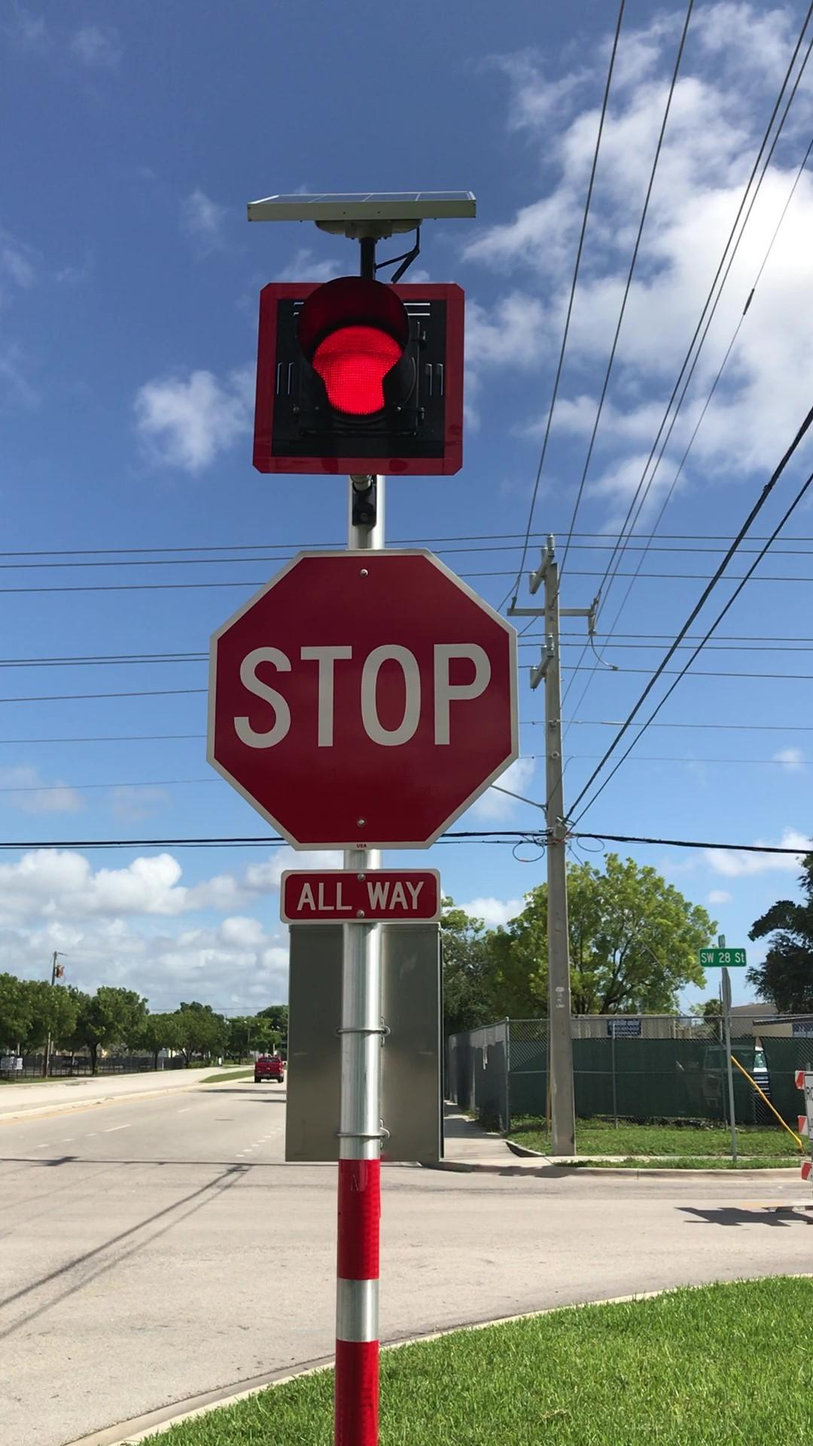red: (237, 279, 523, 463)
